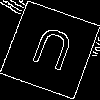U: (25, 24, 77, 81)
